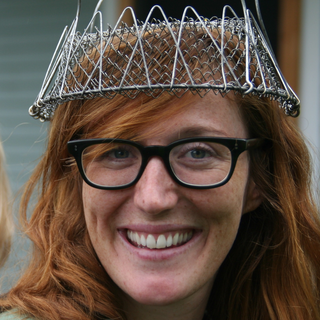eye: (173, 140, 221, 169), (96, 146, 140, 166)
